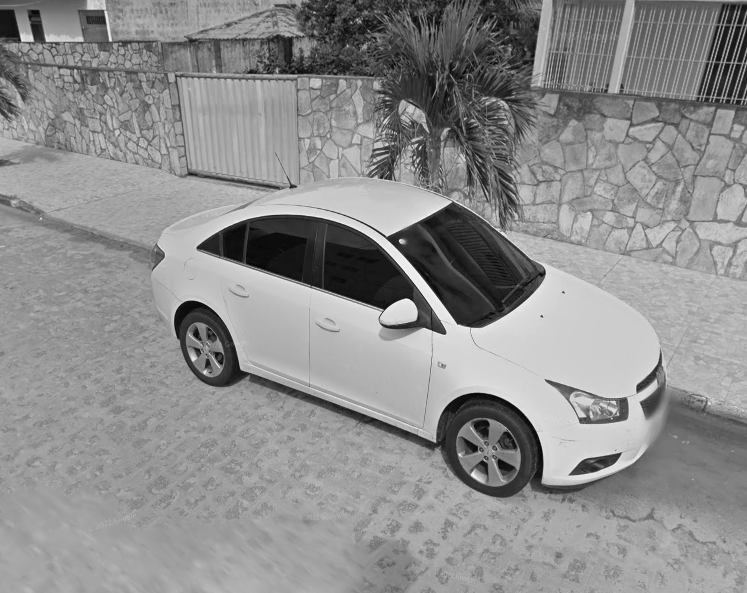car: (148, 150, 671, 501)
